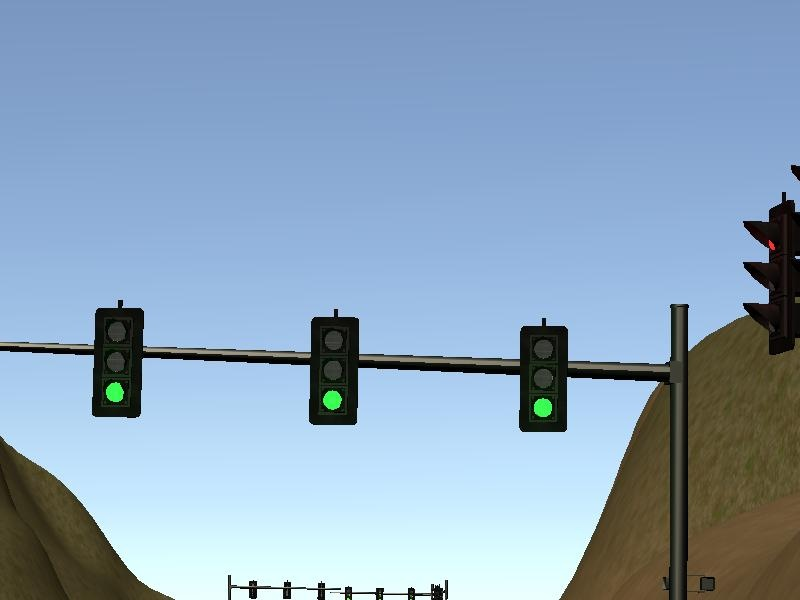GREEN: (92, 306, 143, 421), (518, 326, 572, 434), (309, 319, 360, 428)
